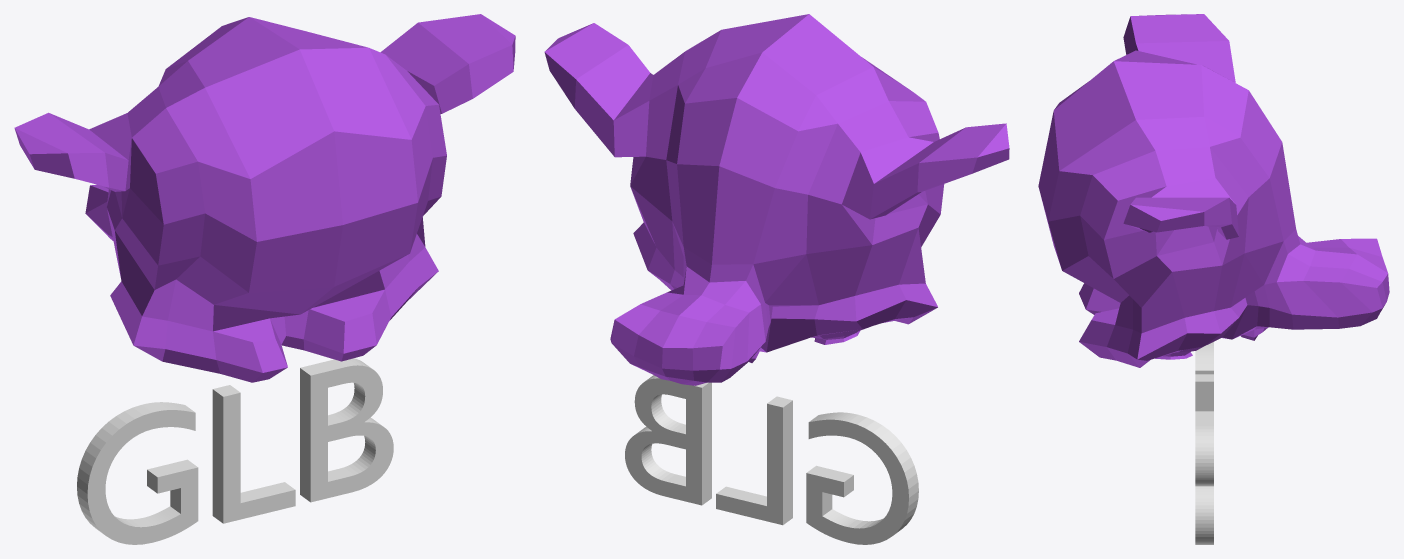
The model's file is suz_blend.glb.
3 views of the same model, side by side, from view 1: azimuth 30°, elevation 25°; view 2: azimuth 150°, elevation 25°; view 3: azimuth 270°, elevation 25° (orthographic). The views are drawn at different scales.
Visible parts, largest first — view 1: Suzanne, Text; view 2: Suzanne, Text; view 3: Suzanne, Text.
Part boxes in pixels (x1,y1,x2,y2): Suzanne: [14, 14, 515, 382]; Text: [77, 358, 393, 544]; Suzanne: [544, 14, 1009, 385]; Text: [625, 375, 918, 544]; Suzanne: [1038, 14, 1389, 367]; Text: [1195, 342, 1213, 544].
Size of the model in its own units: 2.73 by 2.71 by 1.97.
